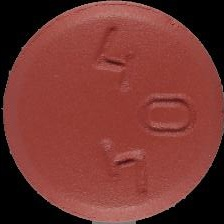50090-1302: (0, 0, 224, 224)
